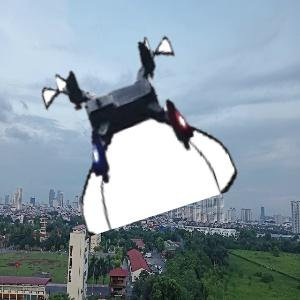drone: (45, 41, 223, 219)
